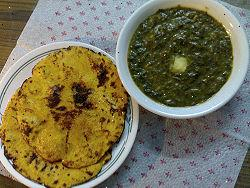saag: (129, 7, 229, 108)
